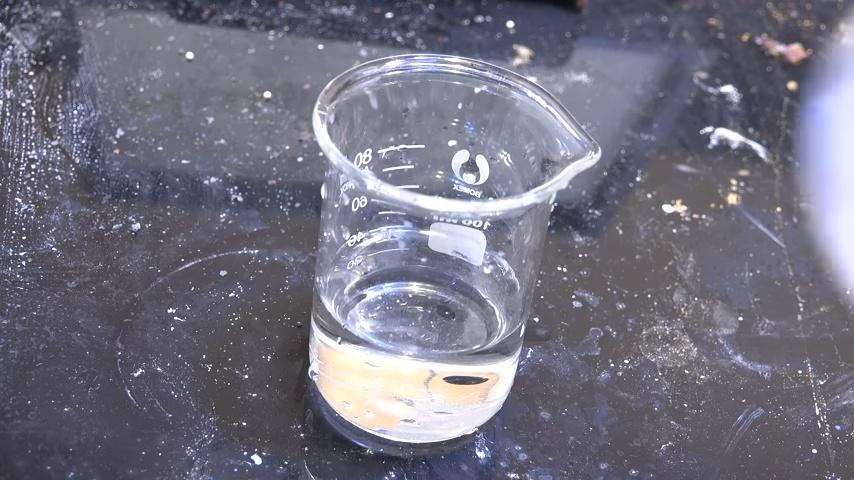Beaker: (298, 46, 610, 445)
